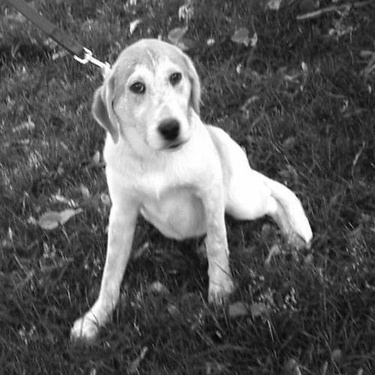dog: (77, 25, 323, 341)
